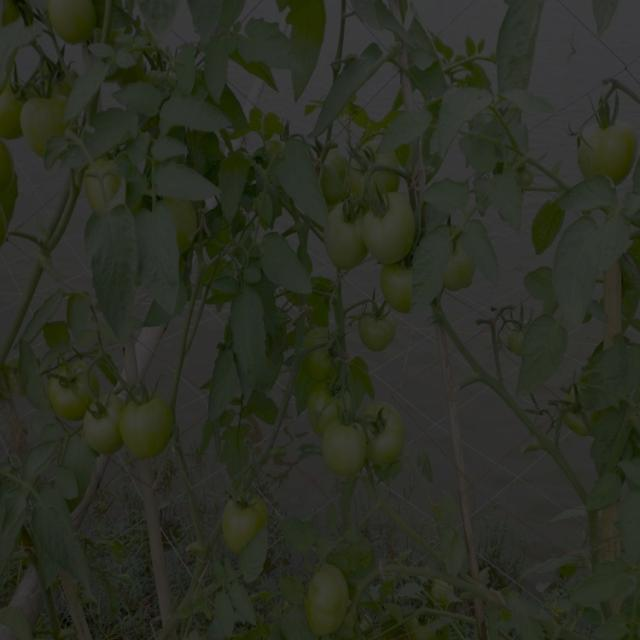tomato: (574, 108, 640, 182), (119, 383, 174, 463), (365, 190, 417, 264), (307, 565, 352, 640), (363, 401, 408, 470), (326, 194, 368, 267), (320, 417, 368, 477), (223, 492, 274, 548), (81, 394, 123, 457), (39, 1, 97, 46), (54, 364, 99, 418), (28, 94, 69, 146), (376, 260, 419, 308), (322, 140, 362, 191), (354, 147, 398, 193), (308, 331, 346, 379), (446, 237, 481, 287), (365, 302, 399, 353), (310, 384, 347, 427), (87, 159, 121, 205), (1, 82, 29, 137), (175, 193, 201, 245), (47, 60, 80, 91), (566, 400, 591, 440), (505, 316, 531, 352)
